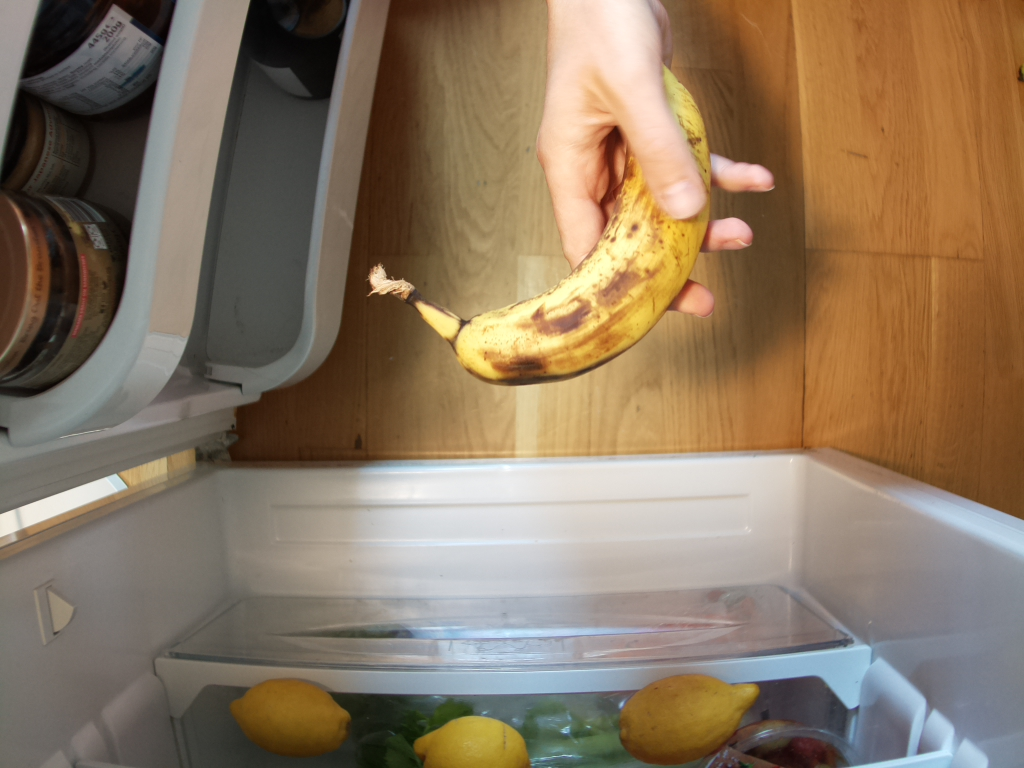banana-overripe: (368, 61, 715, 391)
